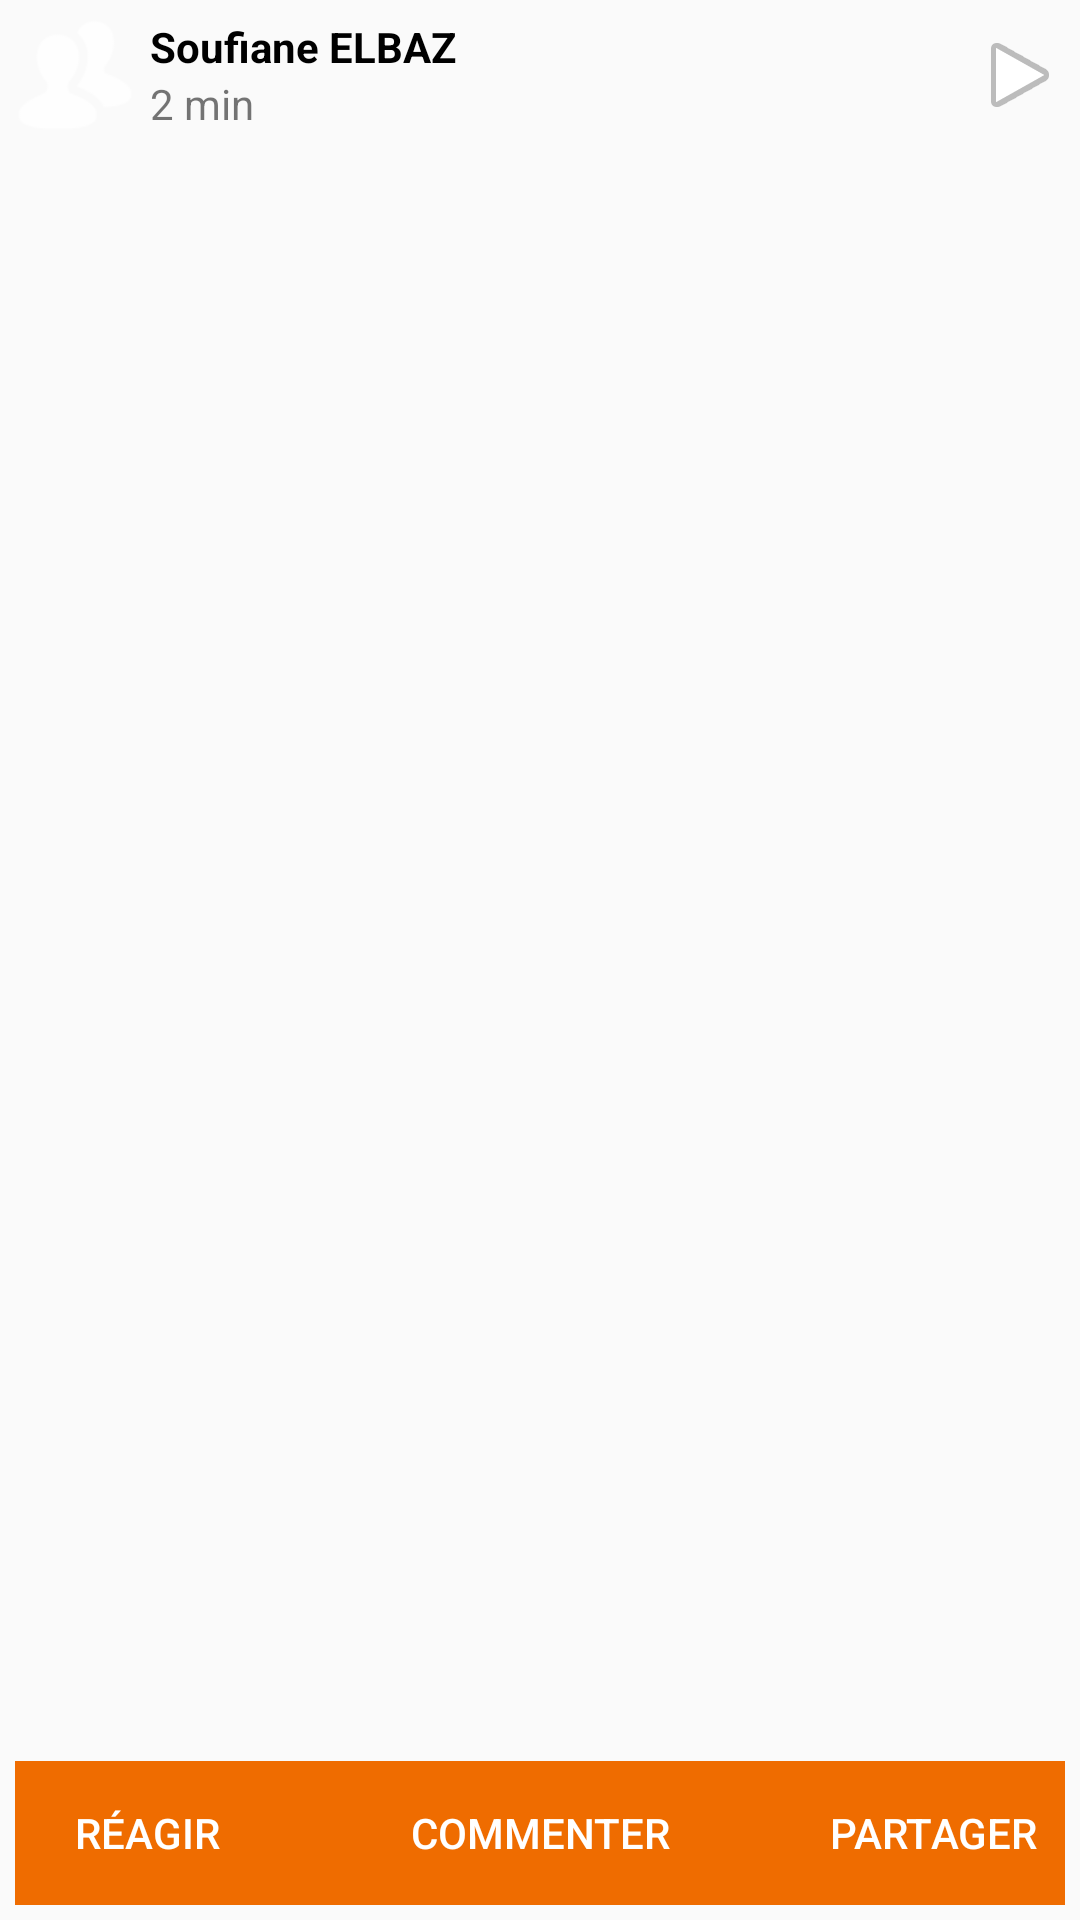

Point at icon controls on the screen. Image size 1080px×1920px, points as (x=x, y=y).
play: (x=1020, y=75)
